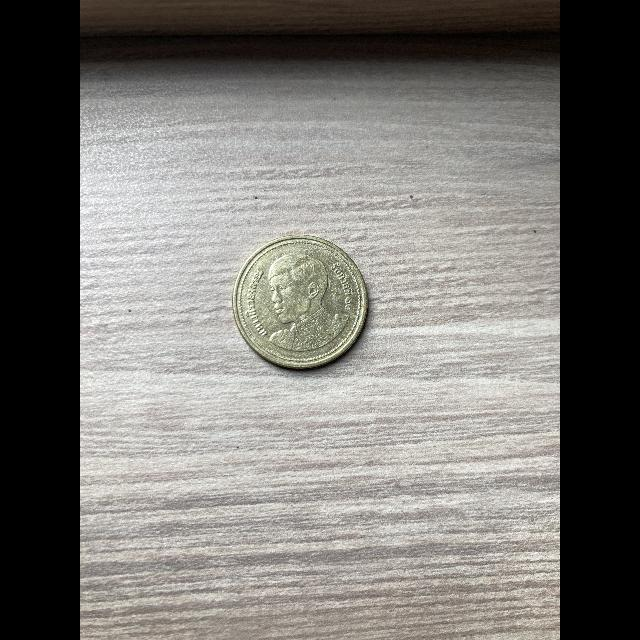2 Bath: (230, 233, 374, 376)
